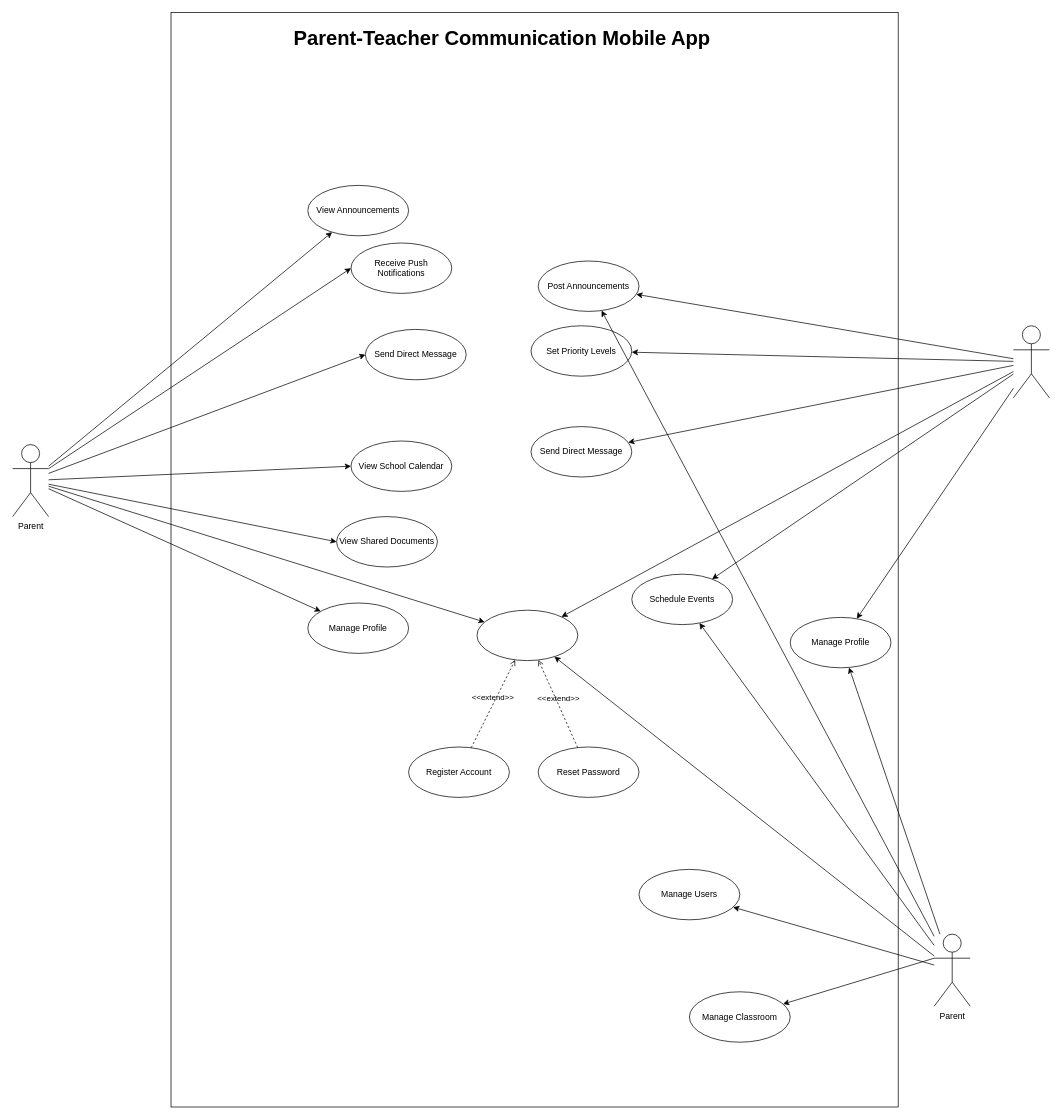
Image size: 1062x1120. Some labels were removed from this diagram. Each missing label, with the centre of its shape:
Login: point (527, 635)
Teacher: point (1031, 361)
